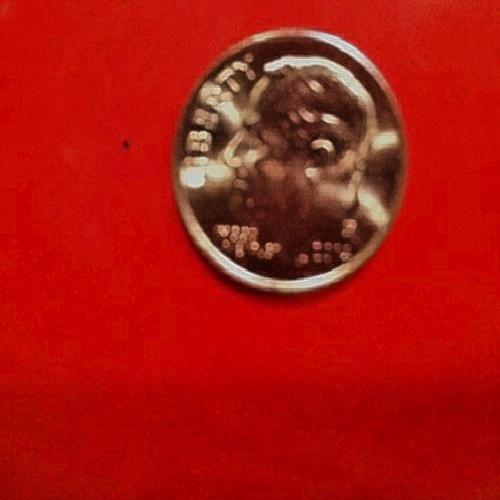kettle: (172, 39, 405, 307)
